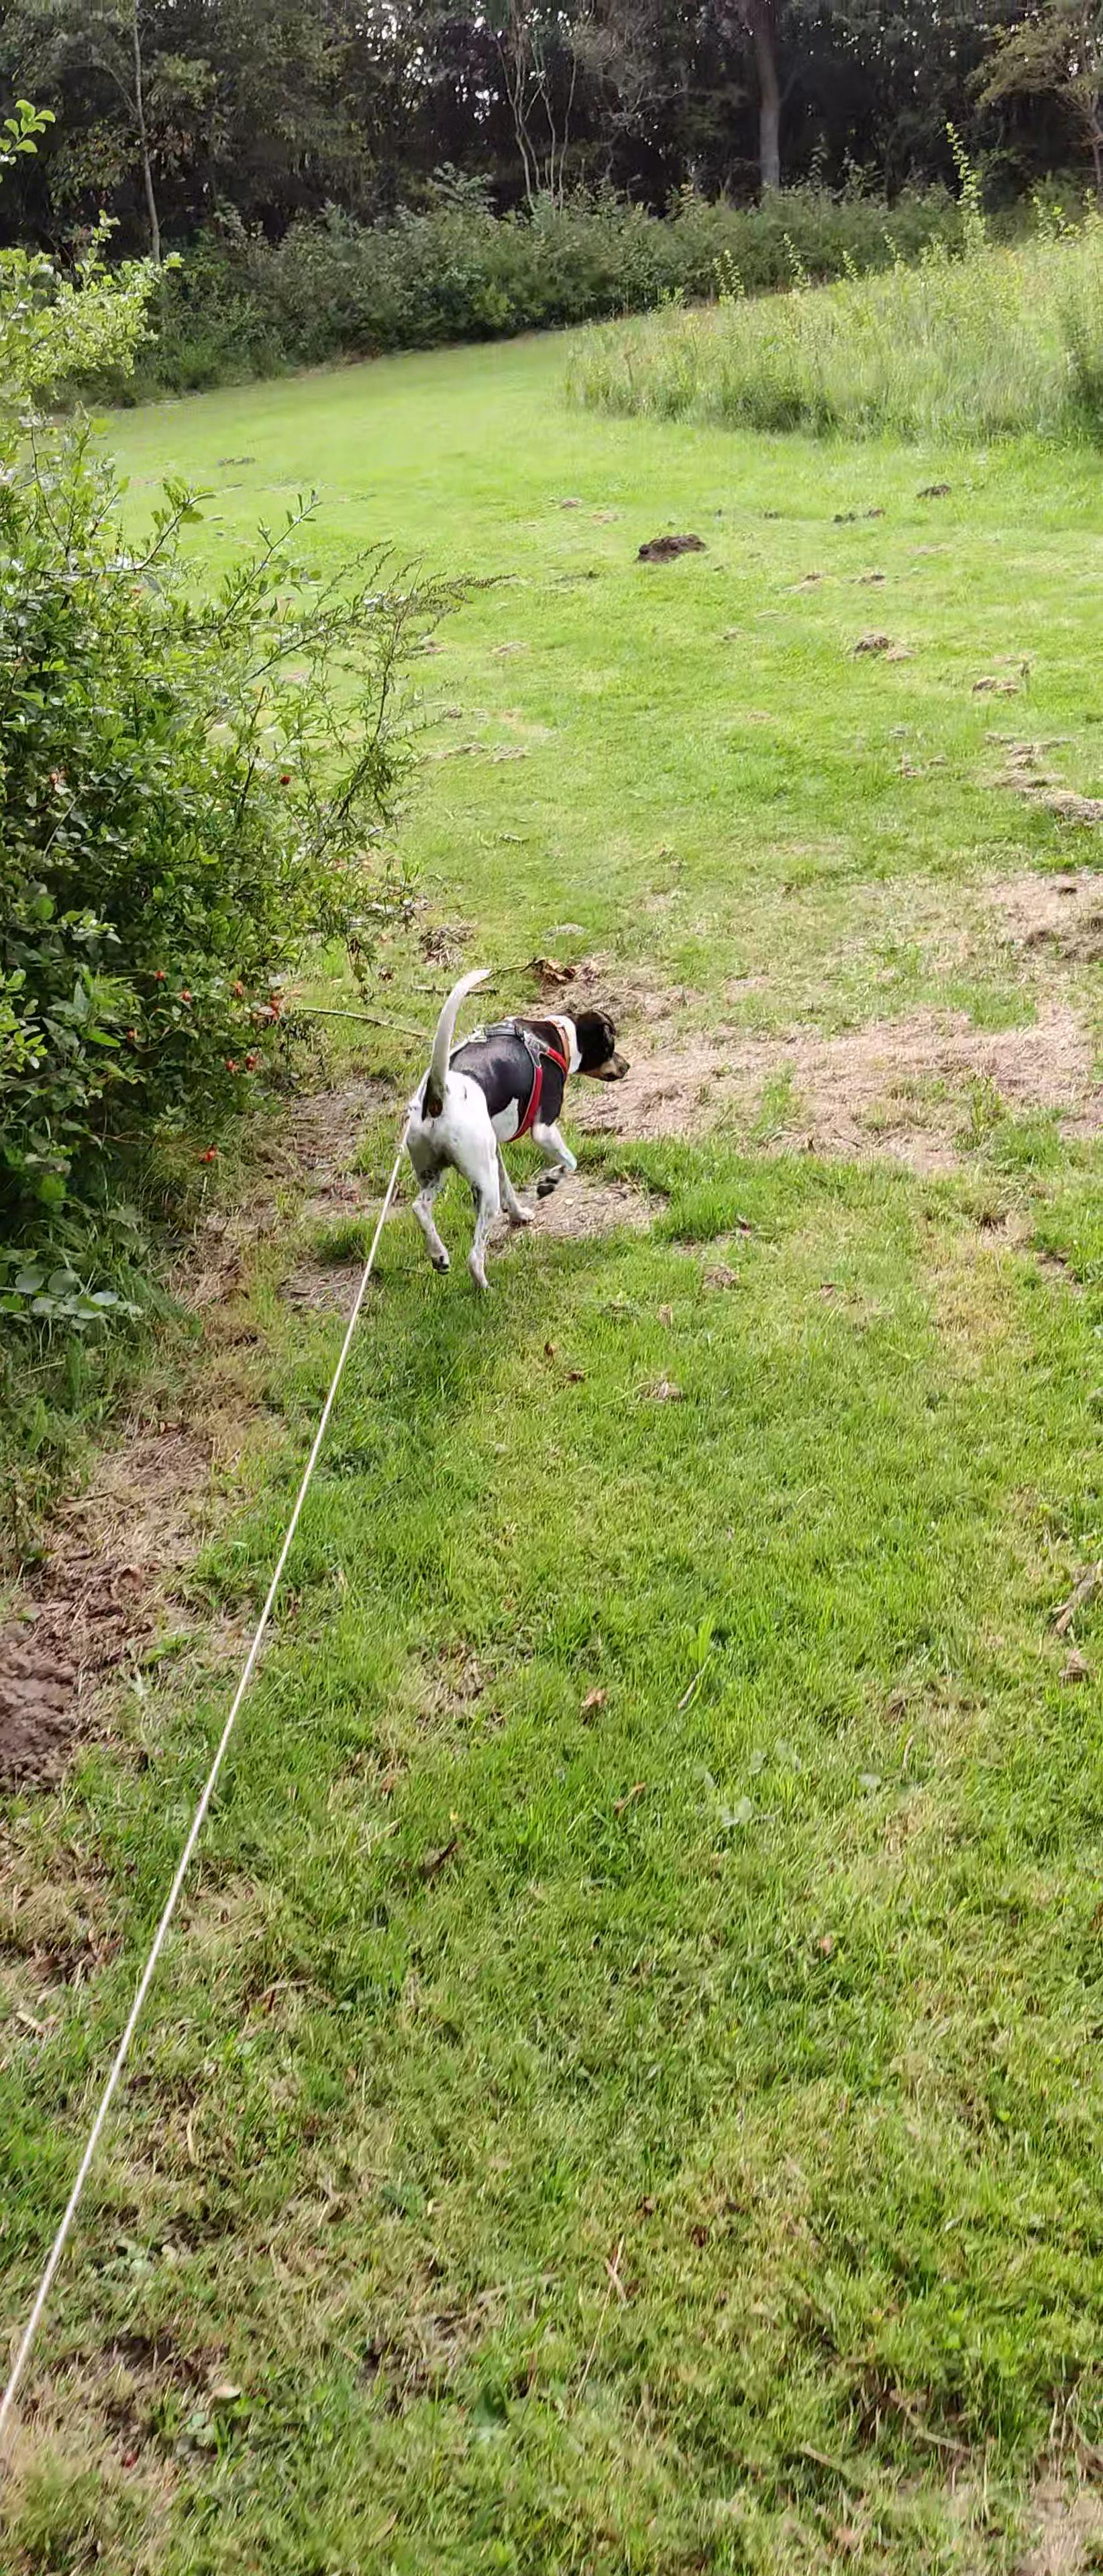Dog: (383, 958, 639, 1299)
